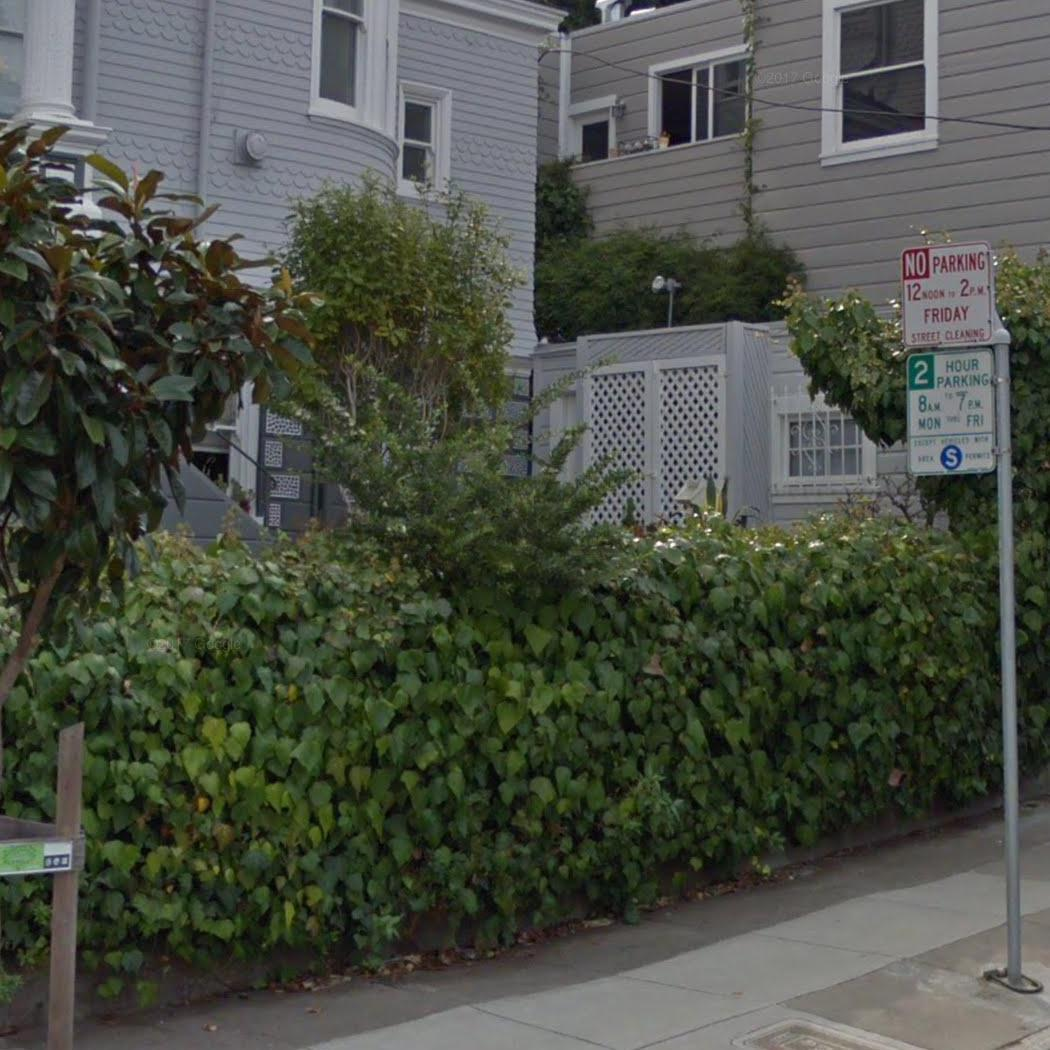2 Hour Parking: (897, 346, 1003, 481)
No Parking: (894, 236, 998, 350)
